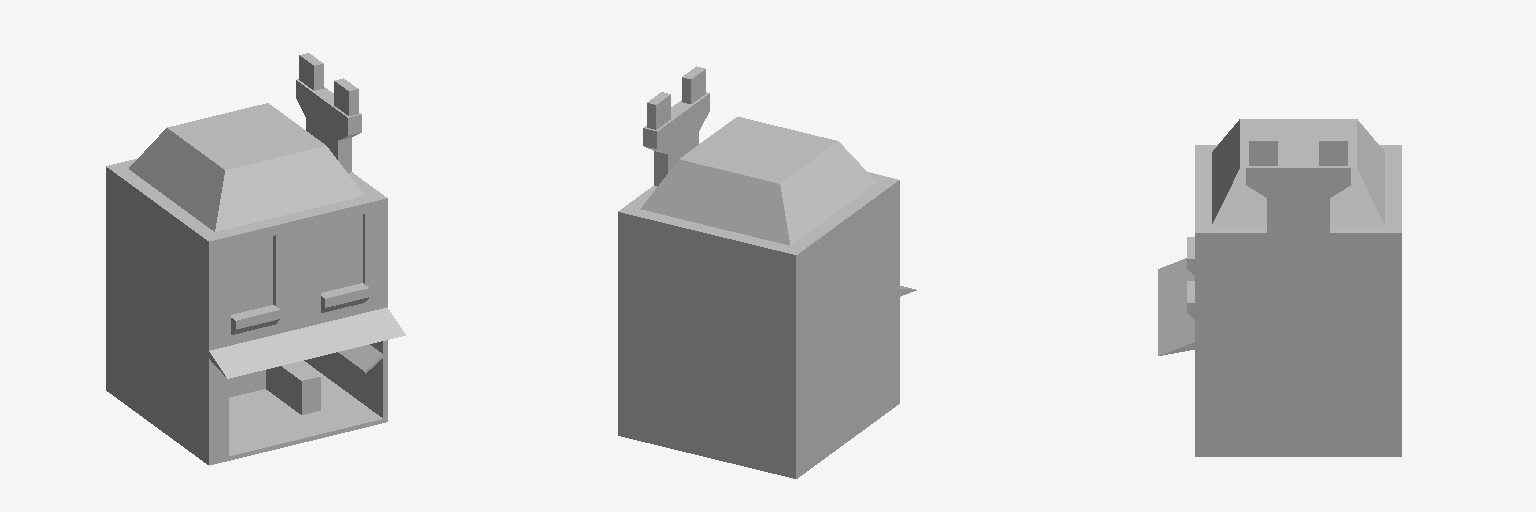
File: bakery_redone.obj
3 views of the same model, side by side, from view 1: azimuth 30°, elevation 25°; view 2: azimuth 150°, elevation 25°; view 3: azimuth 270°, elevation 25° (orthographic).
Parts seen in each view (by area): view 1: Cube4; view 2: Cube4; view 3: Cube4.
Boxes of the visible parts, x1=… form: Cube4: x1=106, y1=53, x2=405, y2=465; Cube4: x1=618, y1=66, x2=916, y2=478; Cube4: x1=1158, y1=119, x2=1401, y2=456.
Bounding box in the file's own units: 274 × 460 × 323.